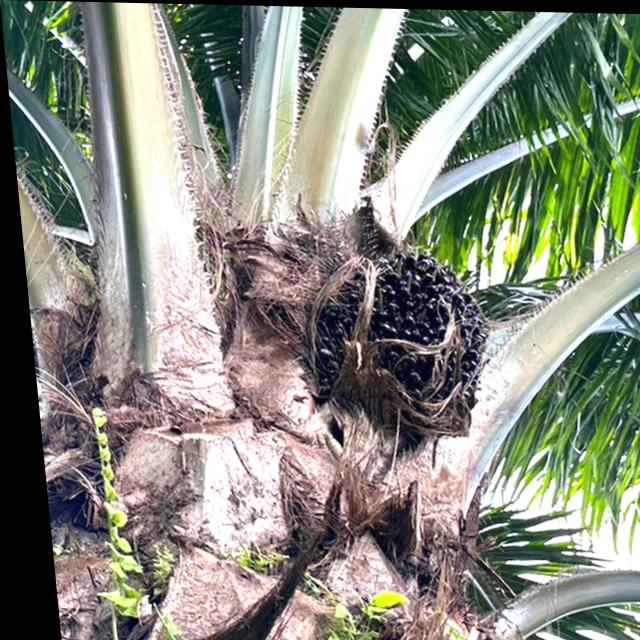unripe: (272, 236, 503, 442)
